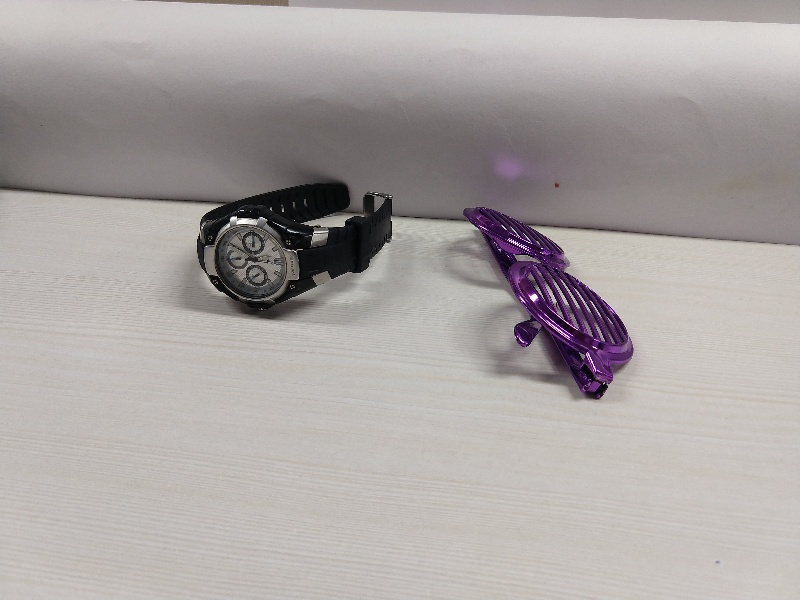shades: (461, 204, 647, 403)
watch: (187, 170, 425, 310)
